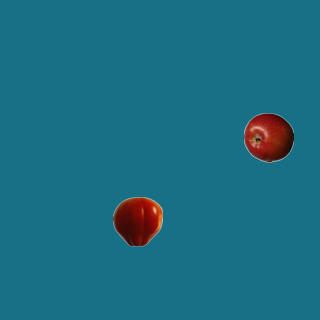Apple Braeburn: (243, 112, 293, 162)
Tomato 1: (112, 196, 162, 246)
